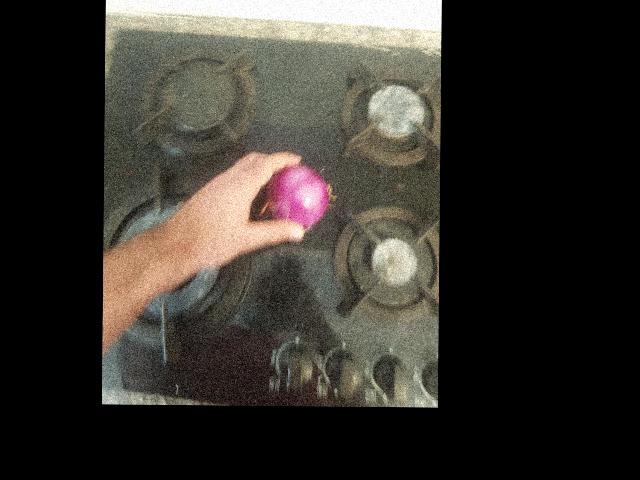onion: (311, 73, 375, 136)
